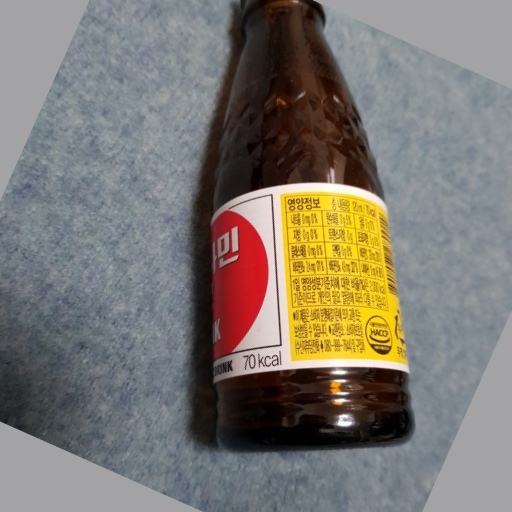Glass_3: (198, 1, 413, 450)
